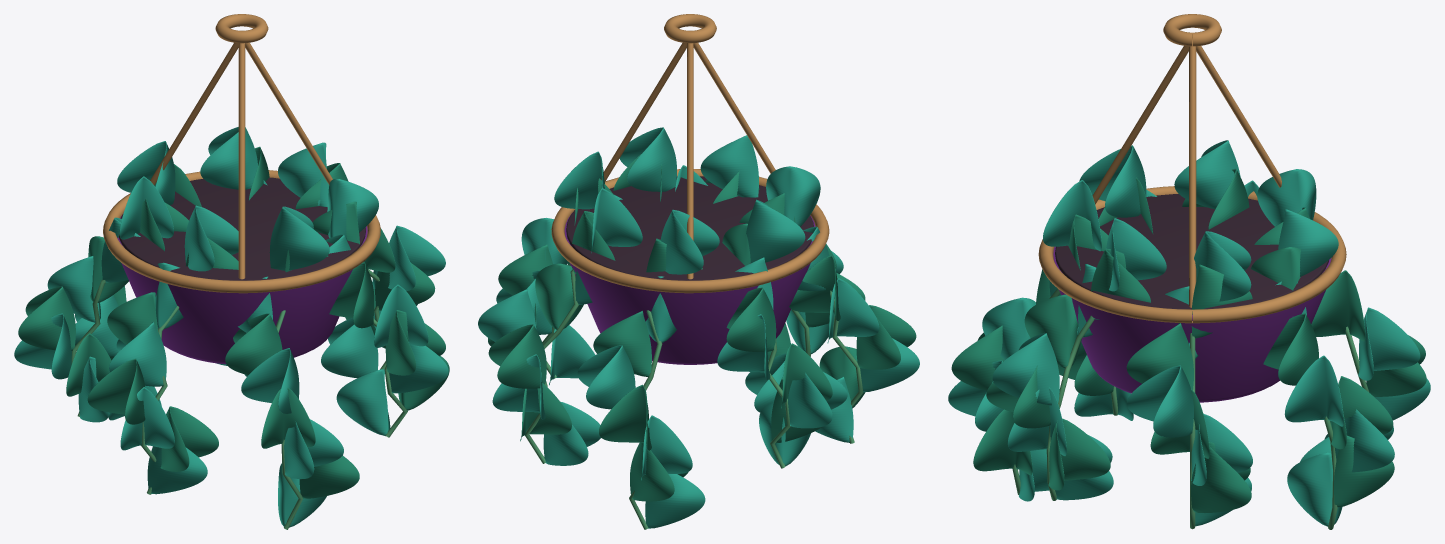
The model's file is hanging_ivy.glb.
3 views of the same model, side by side, from view 1: azimuth 30°, elevation 25°; view 2: azimuth 150°, elevation 25°; view 3: azimuth 270°, elevation 25° (orthographic). The views are drawn at different scales.
Parts seen in each view (by area): view 1: Hanging bowl, Soil, Bowl rim, Ivy heart leaf.045, Ivy heart leaf.008, Ivy heart leaf.032, Ivy heart leaf.041, Ivy heart leaf.062, Ivy heart leaf.036, Ivy heart leaf.009, Ivy heart leaf.049, Ivy heart leaf.004 (+39 smaller); view 2: Hanging bowl, Soil, Bowl rim, Ivy heart leaf.054, Ivy heart leaf.014, Ivy heart leaf.022, Ivy heart leaf.018, Ivy heart leaf.027, Ivy heart leaf.030, Ivy heart leaf.045, Ivy heart leaf.041, Ivy heart leaf.033 (+40 smaller); view 3: Hanging bowl, Soil, Bowl rim, Ivy heart leaf.004, Ivy heart leaf.058, Ivy heart leaf.022, Ivy heart leaf.013, Ivy heart leaf.036, Ivy heart leaf.061, Ivy heart leaf.007, Ivy heart leaf.017, Ivy heart leaf (+36 smaller).
Part boxes in pixels (box(x1,y1,x2,y2)): Hanging bowl: box(117, 213, 367, 364); Soil: box(119, 177, 365, 280); Bowl rim: box(103, 170, 380, 293); Ivy heart leaf.045: box(269, 206, 329, 270); Ivy heart leaf.008: box(321, 318, 378, 378); Ivy heart leaf.032: box(18, 286, 75, 350); Ivy heart leaf.041: box(87, 358, 145, 424); Ivy heart leaf.062: box(336, 369, 390, 436); Ivy heart leaf.036: box(184, 205, 238, 271); Ivy heart leaf.009: box(200, 127, 257, 189); Ivy heart leaf.049: box(241, 348, 299, 413); Ivy heart leaf.004: box(388, 225, 445, 290); Hanging bowl: box(564, 213, 815, 364); Soil: box(566, 176, 813, 280); Bowl rim: box(551, 169, 829, 293); Ivy heart leaf.054: box(619, 127, 676, 191); Ivy heart leaf.014: box(488, 324, 546, 388); Ivy heart leaf.022: box(577, 345, 635, 409); Ivy heart leaf.018: box(660, 209, 719, 274); Ivy heart leaf.027: box(746, 199, 805, 262); Ivy heart leaf.030: box(726, 287, 776, 351); Ivy heart leaf.045: box(700, 135, 758, 197); Ivy heart leaf.041: box(856, 305, 916, 369); Ivy heart leaf.033: box(788, 372, 847, 428); Hanging bowl: box(1053, 246, 1331, 402); Soil: box(1055, 194, 1328, 309); Bowl rim: box(1038, 186, 1346, 323); Ivy heart leaf.004: box(1126, 365, 1193, 437); Ivy heart leaf.058: box(992, 333, 1059, 405); Ivy heart leaf.022: box(1358, 307, 1420, 380); Ivy heart leaf.013: box(1284, 355, 1343, 426); Ivy heart leaf.036: box(1079, 145, 1146, 217); Ivy heart leaf.061: box(1048, 418, 1110, 490); Ivy heart leaf.007: box(1191, 442, 1251, 512); Ivy heart leaf.017: box(1287, 452, 1342, 526); Ivy heart leaf: box(1194, 231, 1251, 301).
Size of the model in its own units: 0.5219 by 0.5915 by 0.5285.
